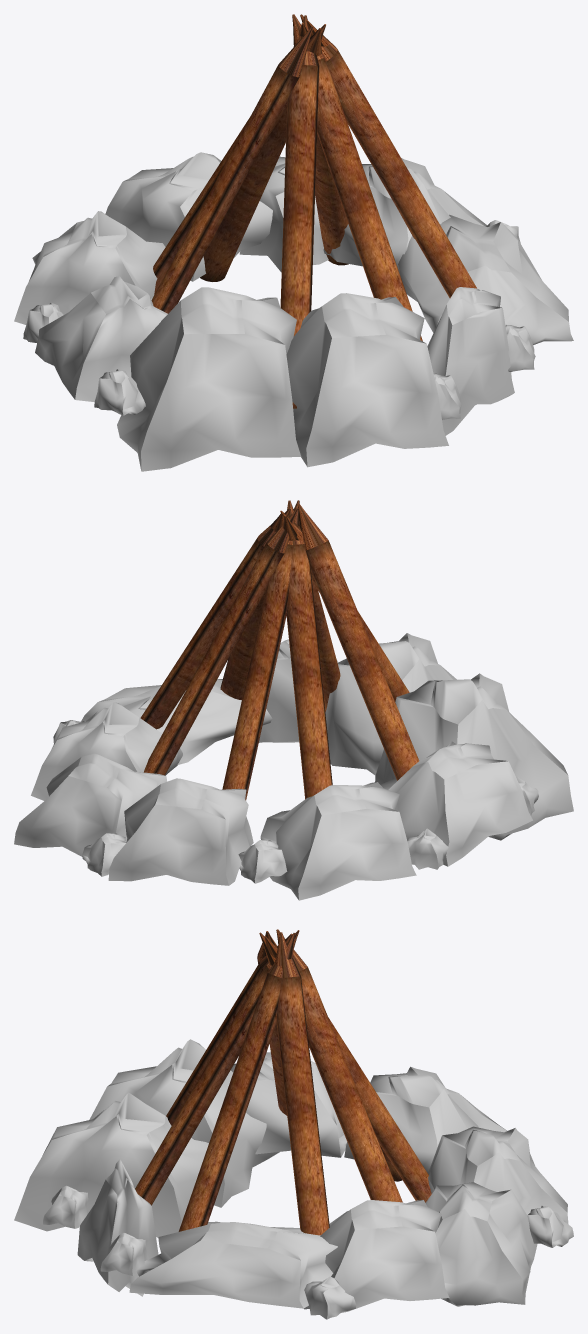
Rendered from Campfire.fbx.
The picture shows the model from 3 angles, top to bottom: view 1: azimuth 30°, elevation 25°; view 2: azimuth 150°, elevation 25°; view 3: azimuth 270°, elevation 25°; orthographic projection. The views are drawn at different scales.
Parts seen in each view (by area): view 1: Box008, Box009, Box011, Box007, Box004, Cylinder006, Box010, Cylinder004, Cylinder005, Cylinder008, Box006, Cylinder002 (+8 smaller); view 2: Box004, Box006, Box008, Box007, Box005, Cylinder008, Cylinder003, Box009, Cylinder001, Cylinder002, Box012, Cylinder007 (+8 smaller); view 3: Box011, Box009, Box005, Box012, Cylinder007, Box008, Box006, Cylinder004, Cylinder001, Box004, Cylinder005, Box010 (+8 smaller).
Boxes of the visible parts, x1,y1,x2,y2 form: Box008: (117,287,301,471); Box009: (286,293,448,467); Box011: (398,214,573,344); Box007: (35,276,167,401); Box004: (14,211,165,324); Cylinder006: (280,15,319,408); Box010: (427,287,514,435); Cylinder004: (300,14,476,298); Cylinder005: (292,14,422,341); Cylinder008: (151,26,313,313); Box006: (105,152,272,281); Cylinder002: (200,28,321,281); Box004: (260,782,416,900); Box006: (108,778,253,885); Box008: (375,673,573,840); Box007: (381,741,532,866); Box005: (14,753,167,856); Cylinder008: (297,503,419,780); Cylinder003: (286,500,332,799); Box009: (325,633,456,775); Cylinder001: (144,508,298,775); Cylinder002: (222,500,300,800); Box012: (31,702,182,800); Cylinder007: (140,508,290,729); Box011: (129,1221,337,1308); Box009: (14,1092,208,1237); Box005: (425,1182,537,1306); Box012: (320,1200,449,1312); Cylinder007: (275,932,329,1235); Box008: (89,1039,279,1207); Box006: (428,1126,568,1224); Cylinder004: (178,933,295,1231); Cylinder001: (276,929,402,1202); Box004: (344,1066,507,1172); Cylinder005: (135,930,299,1205); Box010: (77,1159,158,1296).
Bounding box in the file's own units: 5.49 × 3.73 × 5.92.
